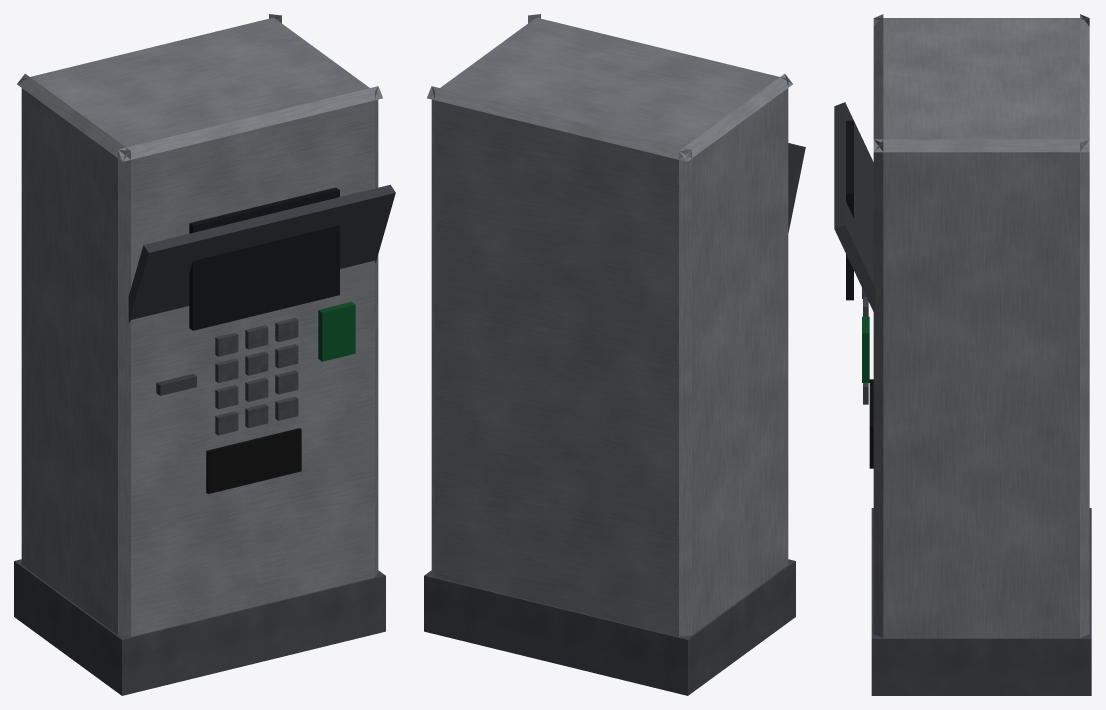
The model's file is ticket_machine.obj.
The picture shows the model from 3 angles, left to right: view 1: azimuth 30°, elevation 25°; view 2: azimuth 150°, elevation 25°; view 3: azimuth 270°, elevation 25°; orthographic projection.
Visible parts, largest first — view 1: ticket_machine; view 2: ticket_machine; view 3: ticket_machine.
Boxes of the visible parts, left/top/right/bottom form: ticket_machine: left=14, top=14, right=395, bottom=695; ticket_machine: left=424, top=14, right=805, bottom=695; ticket_machine: left=834, top=14, right=1091, bottom=695.
Bounding box in the file's own units: 0.79 × 1.55 × 0.655.
